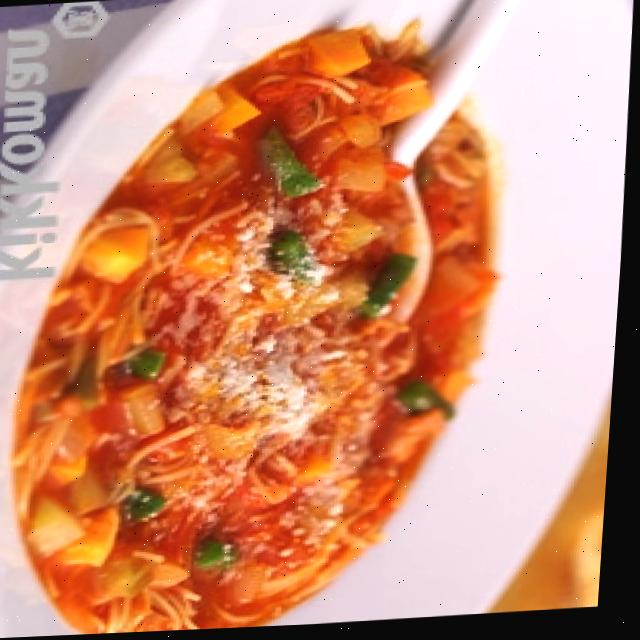三明治: (63, 0, 640, 337)
